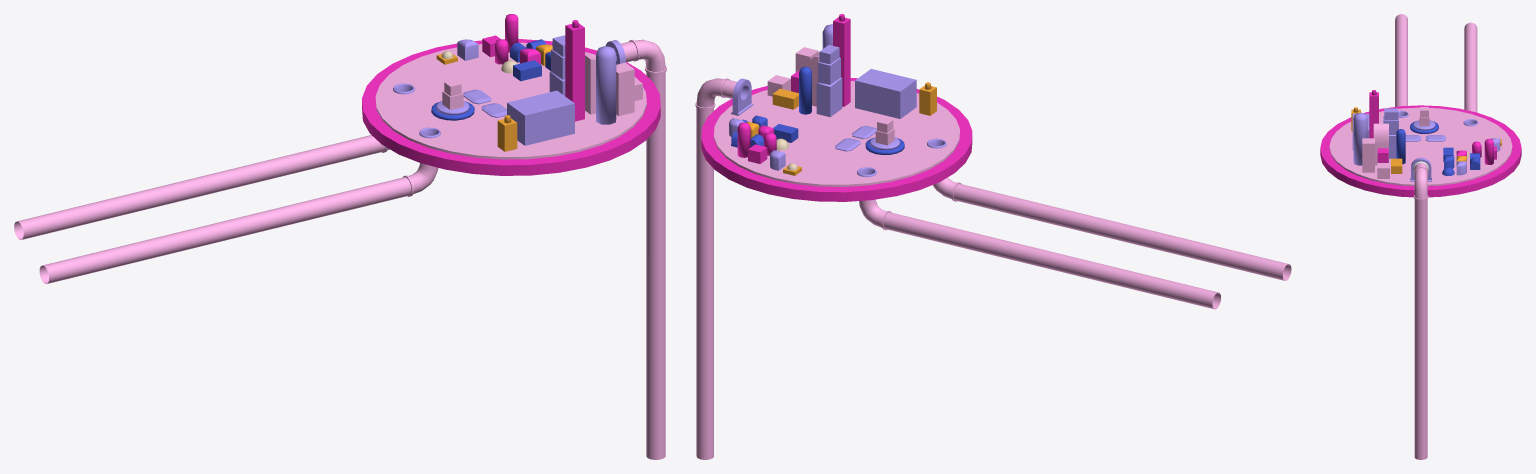
The model's file is platform_level1_a03.glb.
3 renders of one model, left to right at view 1: azimuth 30°, elevation 25°; view 2: azimuth 150°, elevation 25°; view 3: azimuth 270°, elevation 25°, orthographic. The views are drawn at different scales.
Parts seen in each view (by area): view 1: Cylinder.038, Cube.272, Cube.135, Cube.138, Cylinder.039, Cube.169, Cube.180, Cylinder.048, centerpiece, Cube.164, Cube.161, Cube.176; view 2: Cylinder.038, Cube.138, Cube.135, Cube.272, Cylinder.039, Cube.169, Cube.161, Cube.180, centerpiece, Cube.084, Cylinder.047; view 3: Cylinder.038, Cube.135, Cylinder.039, Cube.138, Cube.272, Cylinder.048, Cube.161, centerpiece, Cube.162, Cube.164, Cube.180, Cylinder.047 (+2 smaller).
Part boxes in pixels (box(x1,y1,x2,y2)): Cylinder.038: box(375, 42, 646, 159); Cube.272: box(39, 163, 438, 284); Cube.135: box(621, 39, 666, 459); Cube.138: box(14, 135, 389, 239); Cylinder.039: box(362, 39, 660, 175); Cube.169: box(507, 90, 574, 145); Cube.180: box(565, 20, 584, 121); Cylinder.048: box(596, 46, 616, 124); centerpiece: box(431, 79, 474, 120); Cube.164: box(616, 62, 634, 116); Cube.161: box(549, 35, 565, 95); Cube.176: box(497, 115, 517, 151); Cylinder.038: box(713, 81, 959, 186); Cube.138: box(859, 199, 1220, 309); Cube.135: box(695, 78, 736, 459); Cube.272: box(933, 177, 1291, 280); Cylinder.039: box(701, 78, 972, 201); Cube.169: box(855, 69, 916, 118); Cube.161: box(816, 45, 842, 117); Cube.180: box(833, 14, 850, 106); centerpiece: box(865, 118, 904, 154); Cube.084: box(731, 78, 753, 115); Cylinder.047: box(799, 66, 811, 114); Cylinder.038: box(1329, 107, 1512, 186); Cube.135: box(1413, 163, 1428, 459); Cylinder.039: box(1320, 105, 1521, 197); Cube.138: box(1464, 22, 1477, 112); Cube.272: box(1395, 14, 1407, 106); Cylinder.048: box(1353, 112, 1367, 165); Cube.161: box(1383, 108, 1398, 158); centerpiece: box(1410, 107, 1438, 133); Cube.162: box(1373, 123, 1388, 165); Cube.164: box(1362, 138, 1374, 172); Cube.180: box(1369, 90, 1378, 138); Cylinder.047: box(1396, 129, 1405, 164).
Size of the model in its own units: 97.71 by 71.73 by 39.86.
